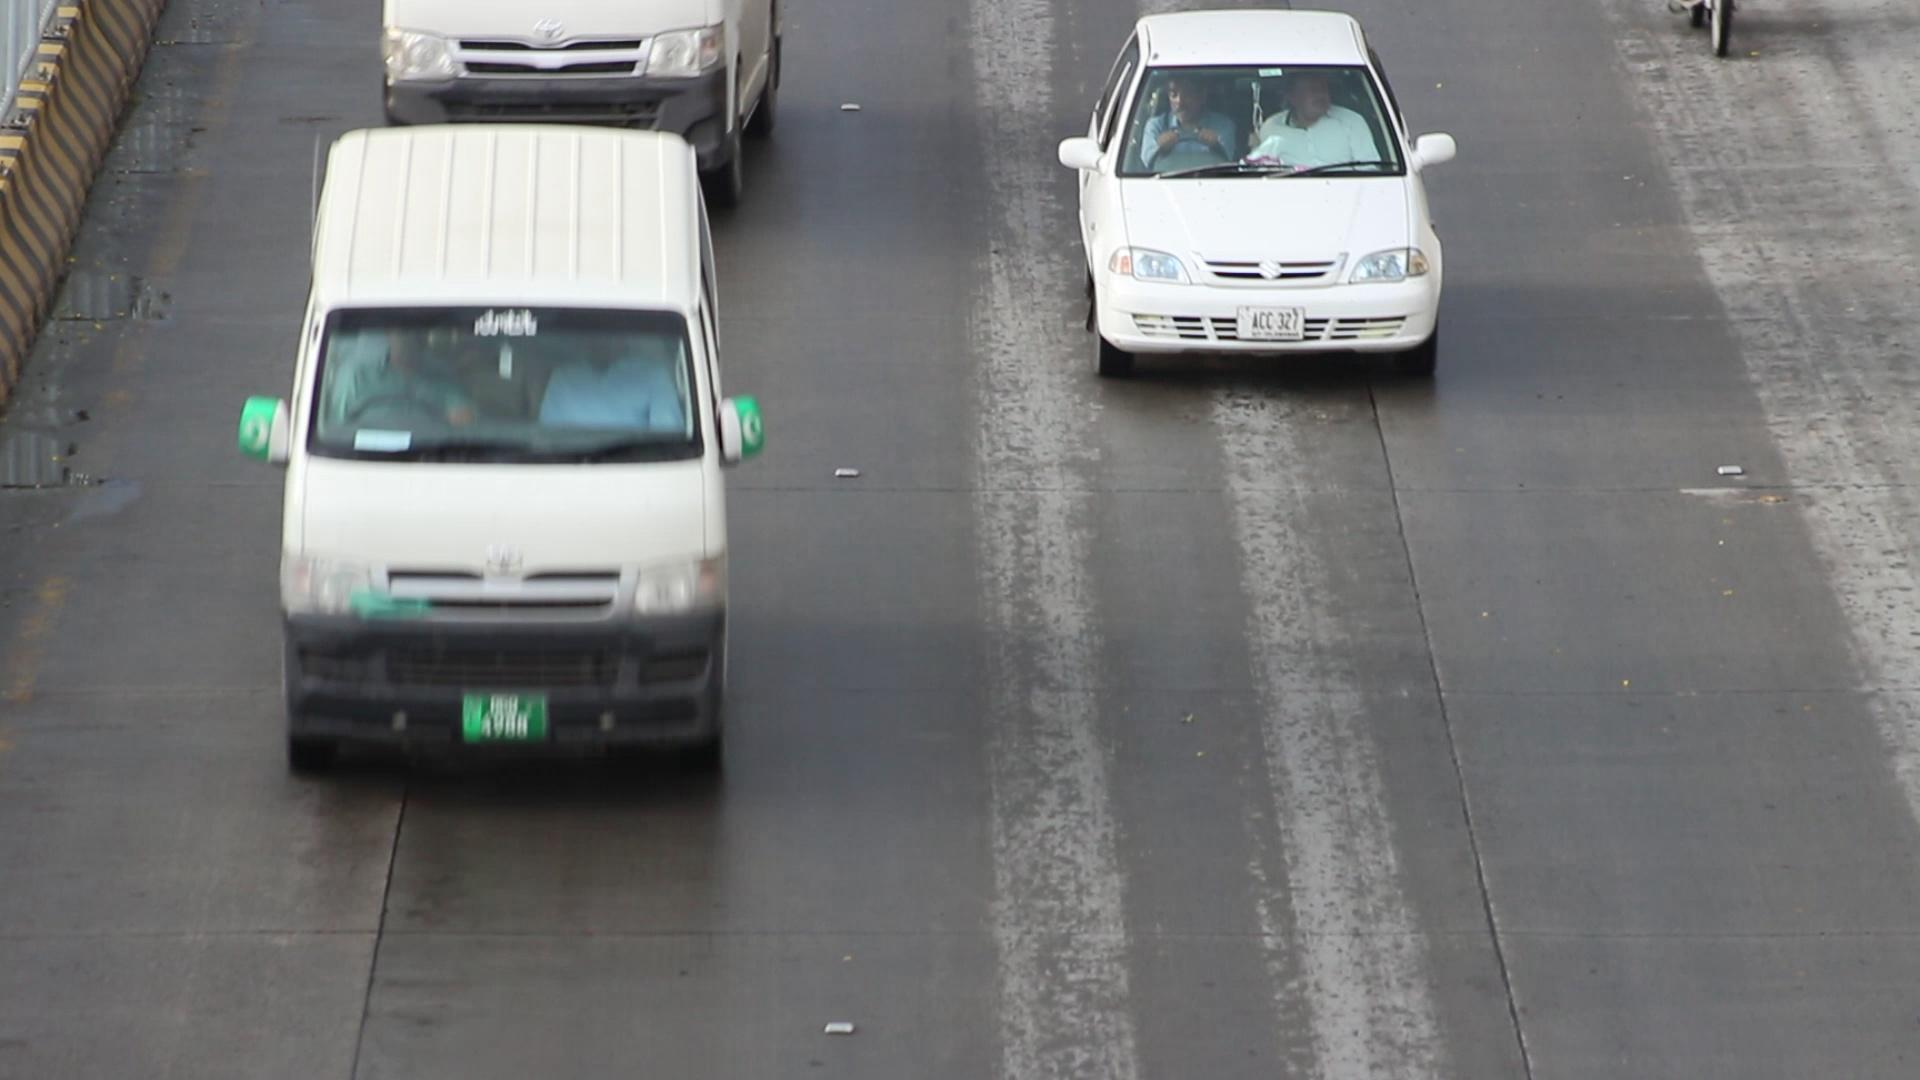windshield: (298, 297, 721, 469)
